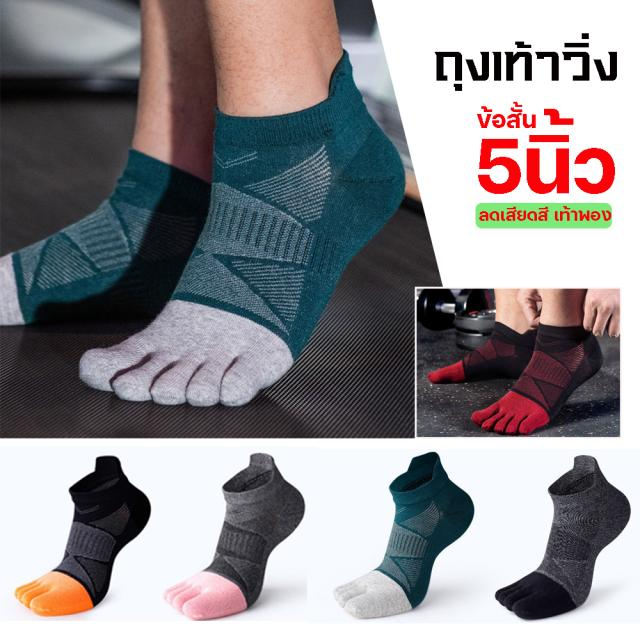sock: (77, 48, 406, 407), (0, 148, 211, 326), (163, 452, 305, 620), (333, 451, 474, 619), (494, 454, 631, 620), (14, 454, 150, 616), (471, 323, 604, 435), (427, 321, 536, 384)
